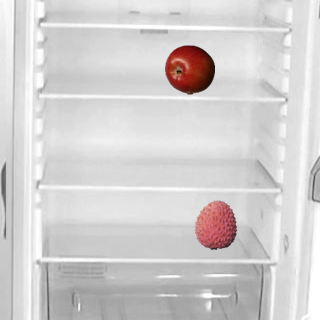Apple Braeburn: (164, 44, 214, 94)
Lychee: (190, 199, 240, 249)
